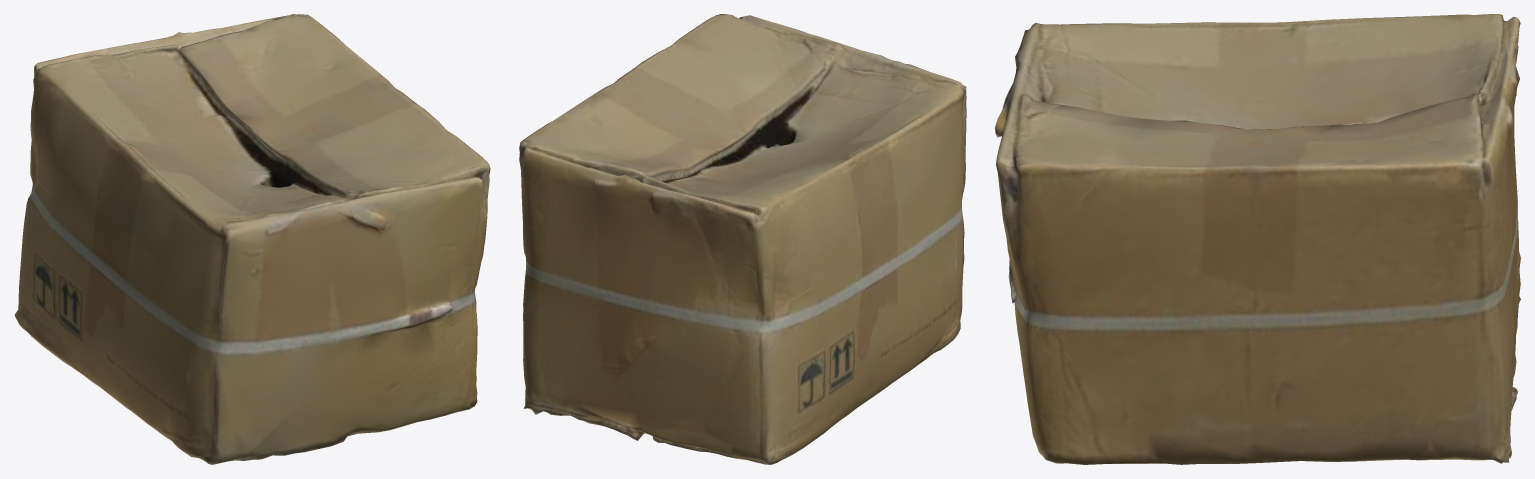
The picture shows the model from 3 angles, left to right: view 1: azimuth 30°, elevation 25°; view 2: azimuth 150°, elevation 25°; view 3: azimuth 270°, elevation 25°; orthographic projection. The views are drawn at different scales.
Visible parts, largest first — view 1: cardboard_box_01; view 2: cardboard_box_01; view 3: cardboard_box_01.
Part boxes in pixels (box(x1,y1,x2,y2)): cardboard_box_01: box(14, 14, 490, 464); cardboard_box_01: box(519, 14, 966, 464); cardboard_box_01: box(995, 14, 1520, 464).
Size of the model in its own units: 0.3868 by 0.3418 by 0.5159.
Materials: 1 (1 with a texture image).
